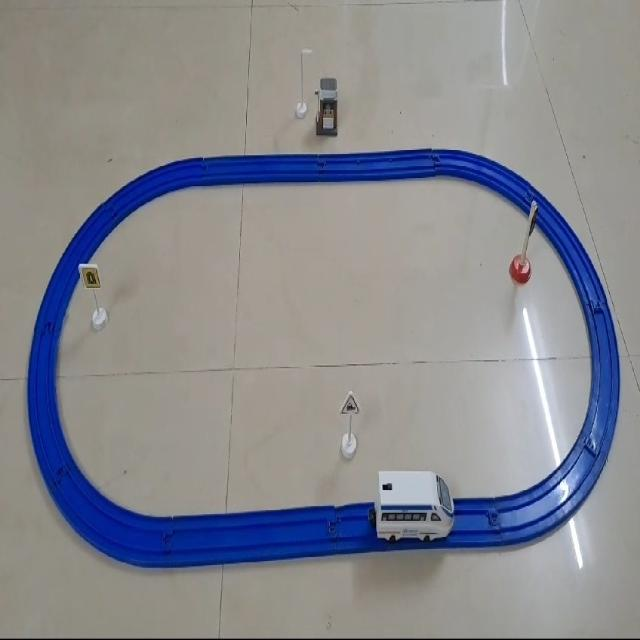bus: (368, 469, 455, 542)
